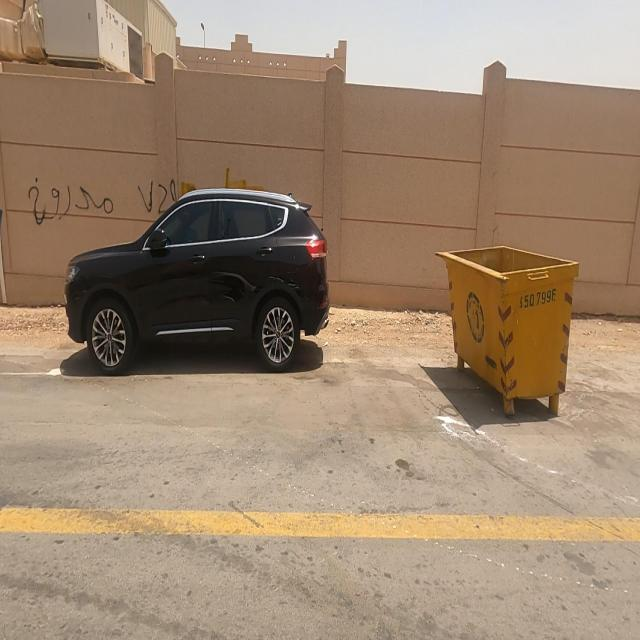Graffiti: (28, 178, 114, 229), (138, 181, 177, 205), (225, 167, 250, 190), (182, 182, 195, 196)
